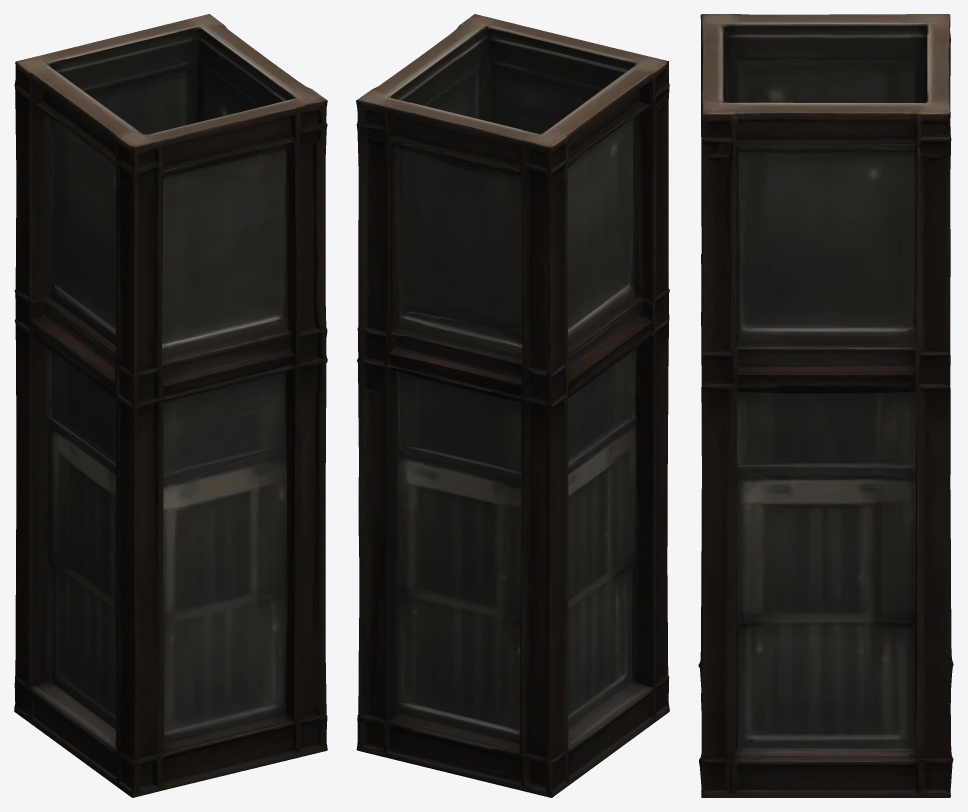
The model's file is cabinet_display_black_tall_2.glb.
The picture shows the model from 3 angles, left to right: view 1: azimuth 30°, elevation 25°; view 2: azimuth 150°, elevation 25°; view 3: azimuth 270°, elevation 25°; orthographic projection. The views are drawn at different scales.
Visible parts, largest first — view 1: geometry_0; view 2: geometry_0; view 3: geometry_0.
Boxes of the visible parts, x1,y1,x2,y2 form: geometry_0: [14, 14, 327, 797]; geometry_0: [356, 14, 669, 797]; geometry_0: [698, 14, 953, 797].
Bounding box in the file's own units: 0.3165 × 1 × 0.3379.
1 material, 1 textured.
